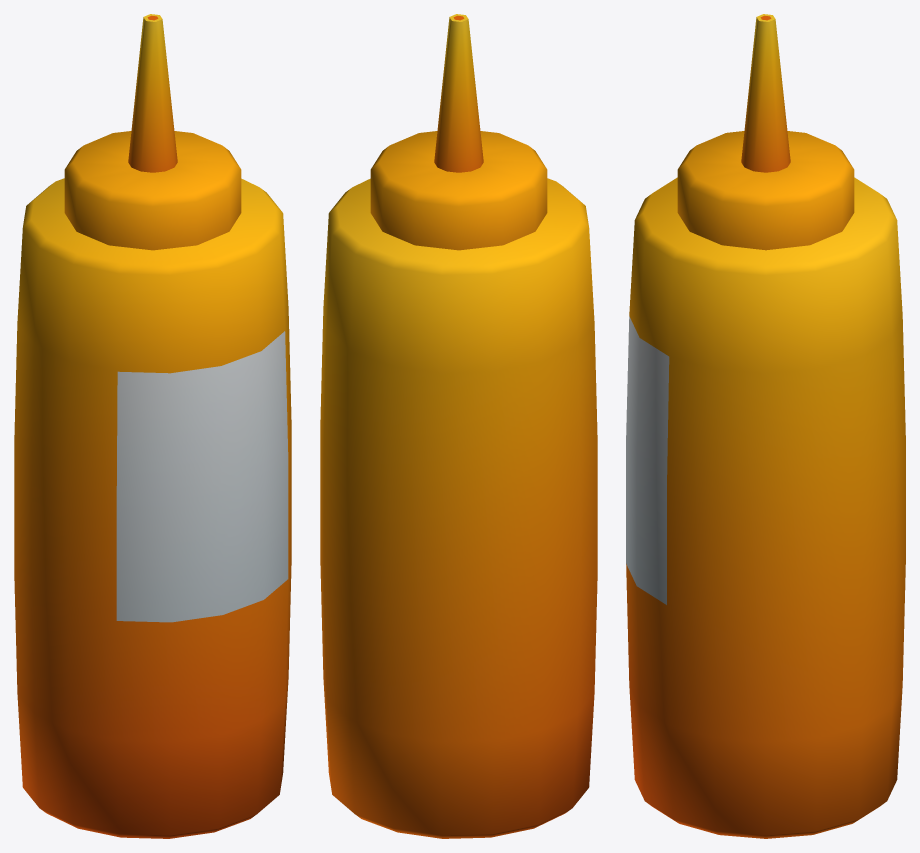
File: sauce_002.fbx
The picture shows the model from 3 angles, left to right: view 1: azimuth 30°, elevation 25°; view 2: azimuth 150°, elevation 25°; view 3: azimuth 270°, elevation 25°; orthographic projection.
Visible parts, largest first — view 1: sauce_002; view 2: sauce_002; view 3: sauce_002.
Boxes of the visible parts, <box> form: sauce_002: <box>14,14,291,838</box>; sauce_002: <box>320,14,597,838</box>; sauce_002: <box>626,14,905,838</box>.
Size of the model in its own units: 8.74 by 8.74 by 26.51.
